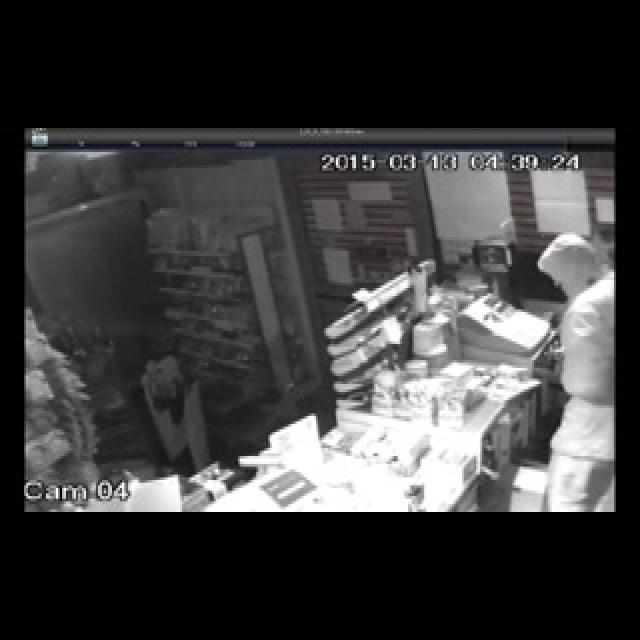thief: (513, 241, 614, 517)
